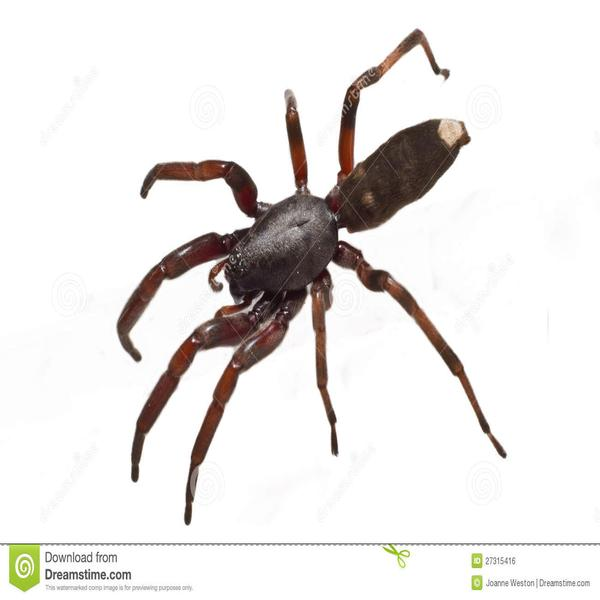White-Tailed_Spider: (116, 28, 506, 525)
